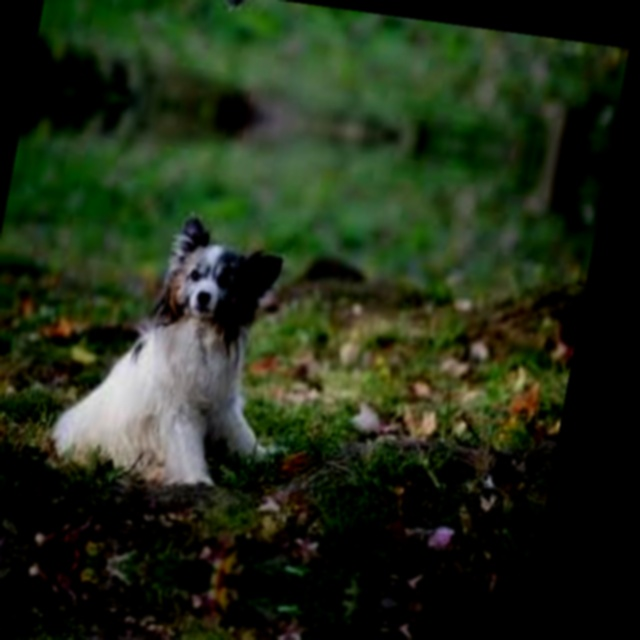dog: (46, 171, 326, 486), (126, 0, 360, 54)
